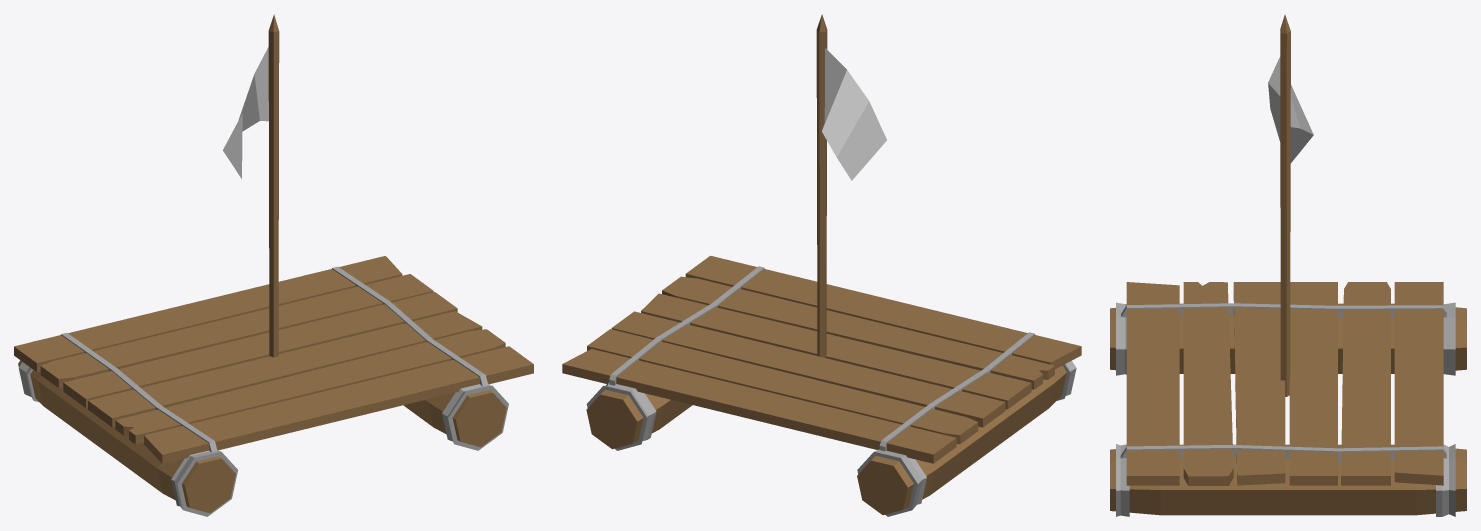
Rendered from raft_01.fbx.
3 renders of one model, left to right at view 1: azimuth 30°, elevation 25°; view 2: azimuth 150°, elevation 25°; view 3: azimuth 270°, elevation 25°, orthographic. The views are drawn at different scales.
Visible parts, largest first — view 1: raft_01; view 2: raft_01; view 3: raft_01.
Part boxes in pixels (x1,y1,x2,y2): raft_01: (14, 14, 533, 516); raft_01: (562, 14, 1081, 516); raft_01: (1110, 14, 1466, 516).
Bounding box in the file's own units: 269 × 283 × 209.
